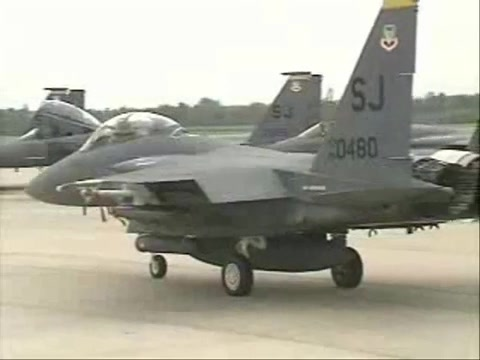aeroplane: (24, 2, 480, 297)
